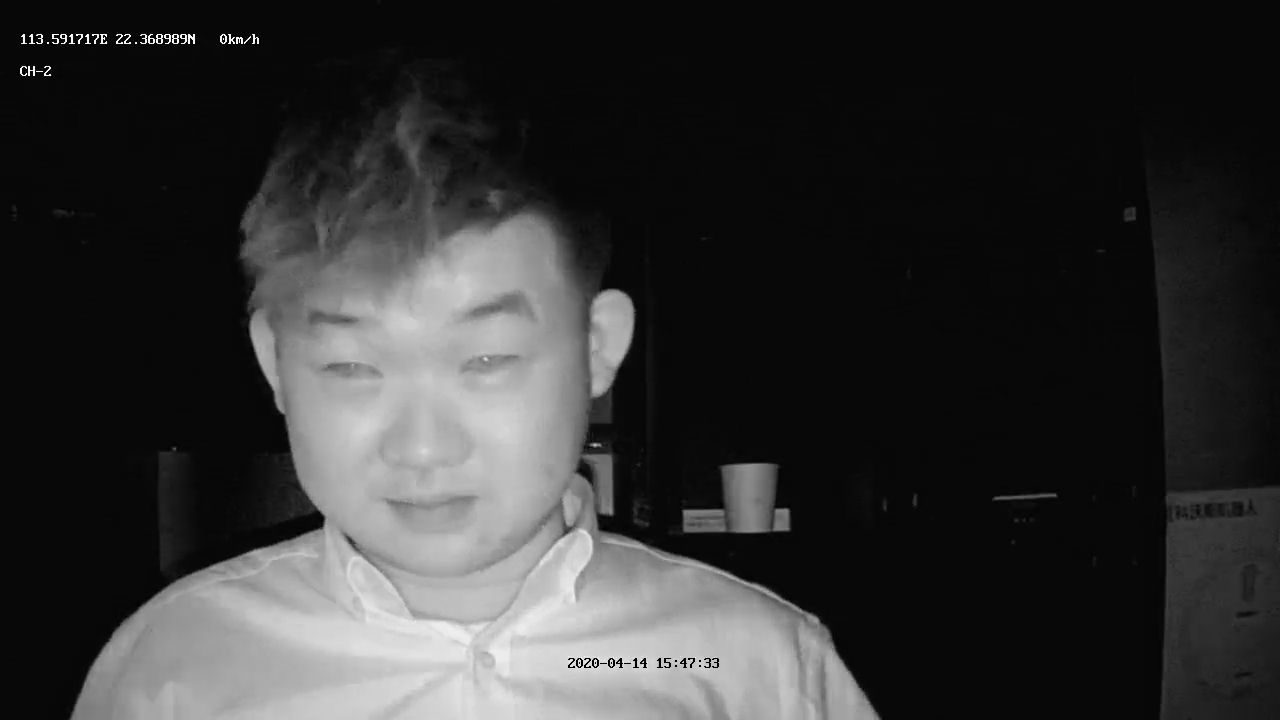fenxin: (253, 217, 632, 575)
